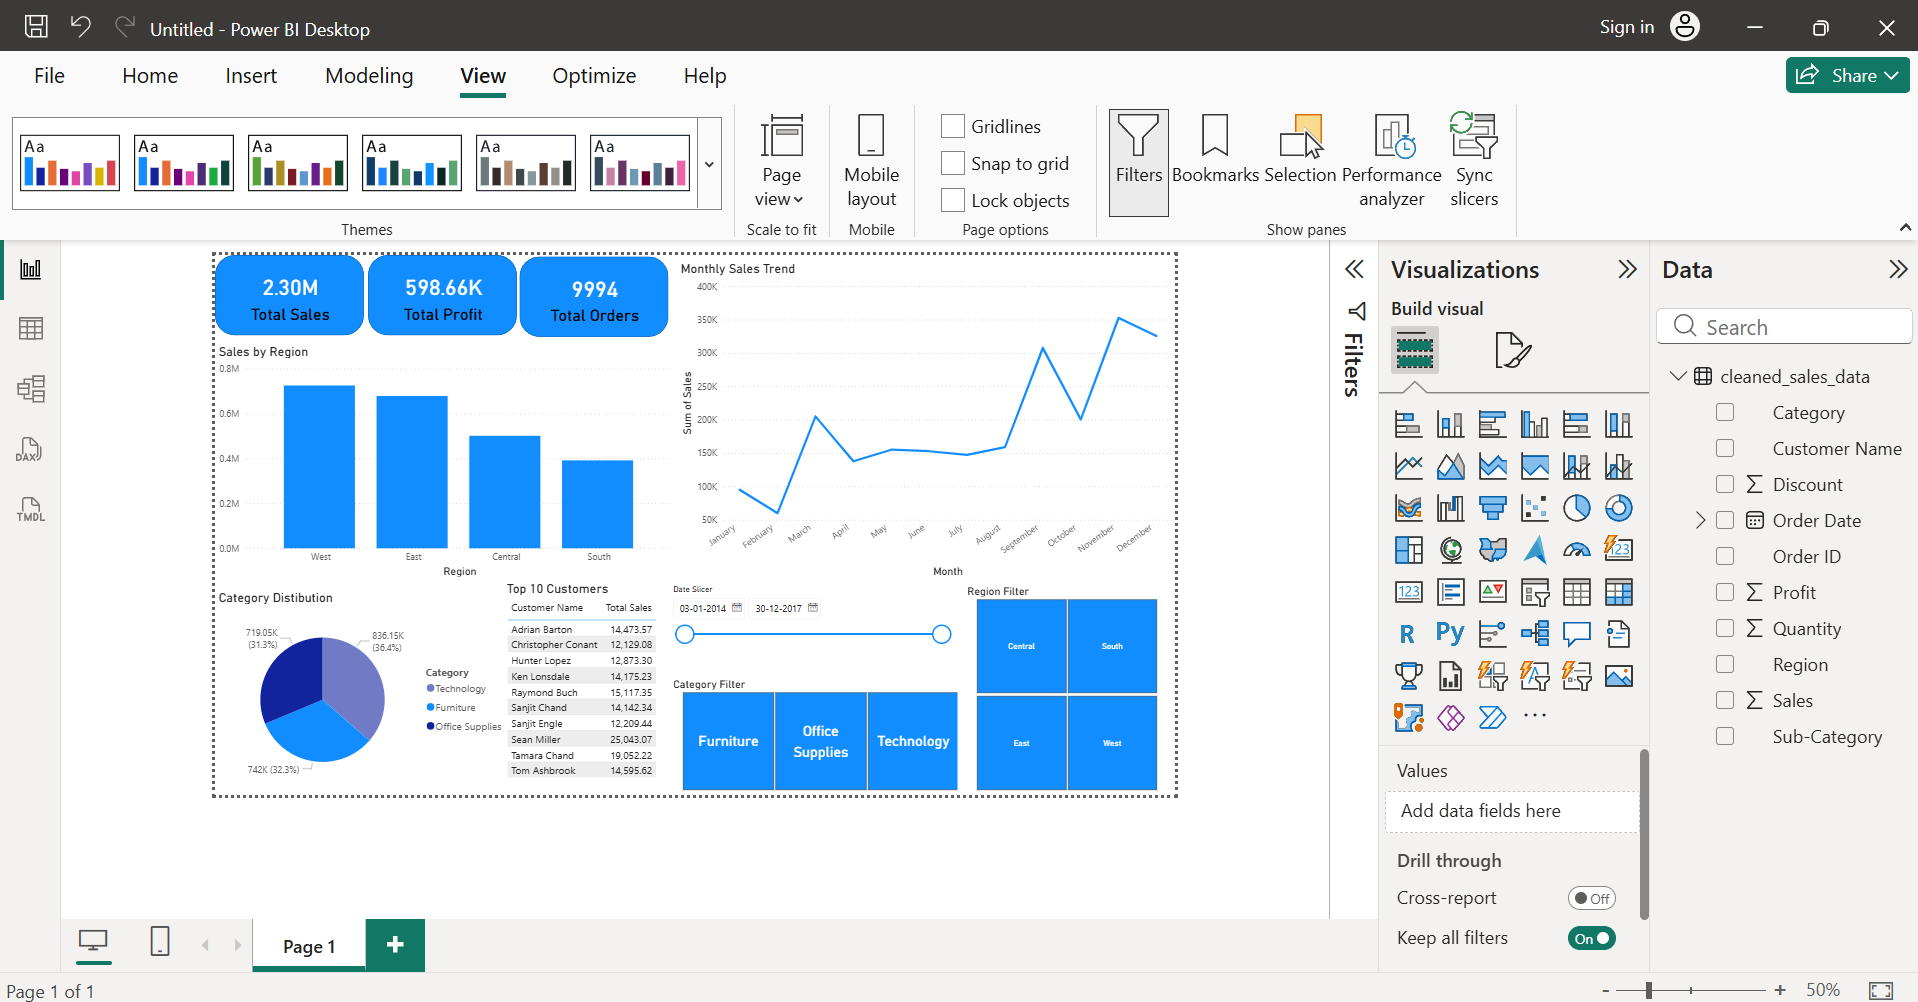

Layout of this report page (visuals, bound fields, positions):
{"tool":"powerbi","page":{"name":"Page 1","canvas":[1280,720],"ordinal":0},"visuals":[{"type":"shape","box":[0,0,198.6,107.1],"z":0},{"type":"card","fields":{"Values":["Sum(cleaned_sales_data.Sales)"]},"box":[8.6,8.6,184.3,91.4],"z":1000},{"type":"shape","box":[204.3,0,198.6,107.1],"z":2000},{"type":"card","fields":{"Values":["Sum(cleaned_sales_data.Profit)"]},"box":[211.4,8.6,184.3,91.4],"z":3000},{"type":"shape","box":[406.2,1.4,198.6,107.1],"z":4000},{"type":"card","fields":{"Values":["CountNonNull(cleaned_sales_data.Order ID)"]},"box":[414.8,10,184.3,91.4],"z":5000},{"type":"columnChart","title":"Sales by Region","fields":{"Category":["cleaned_sales_data.Region"],"Y":["Sum(cleaned_sales_data.Sales)"]},"box":[0,118.6,615.7,315.7],"z":6000},{"type":"lineChart","title":"Monthly Sales Trend","fields":{"Y":["Sum(cleaned_sales_data.Sales)"],"Category":["cleaned_sales_data.Order Date.Variation.Date Hierarchy.Month","cleaned_sales_data.Order Date.Variation.Date Hierarchy.Day"]},"box":[615.7,8.6,664.3,425.7],"z":7000},{"type":"pieChart","title":"Category Distibution","fields":{"Category":["cleaned_sales_data.Category"],"Y":["Sum(cleaned_sales_data.Sales)"]},"box":[0,446,396,274],"z":8000},{"type":"tableEx","title":"Top 10 Customers","fields":{"Values":["cleaned_sales_data.Customer Name","Sum(cleaned_sales_data.Sales)"]},"box":[384,434,214,286],"z":9000},{"type":"slicer","fields":{"Values":["cleaned_sales_data.Order Date"]},"box":[598,434,392,124],"z":10001},{"type":"slicer","fields":{"Values":["cleaned_sales_data.Category"]},"box":[598,558,418,162],"z":10002},{"type":"slicer","fields":{"Values":["cleaned_sales_data.Region"]},"box":[990,434,290,286],"z":10003}]}

Visuals, with their boxes on the page's 1280x720 design canvas (x1, y1, x2, y2). These are canvas units, not pixel positions in the 1918x1002 screenshot, which may show the page scaled, cropped or inside an application window:
shape: region(0, 0, 199, 107)
card - Sum(cleaned_sales_data.Sales): region(9, 9, 193, 100)
shape: region(204, 0, 403, 107)
card - Sum(cleaned_sales_data.Profit): region(211, 9, 396, 100)
shape: region(406, 1, 605, 108)
card - CountNonNull(cleaned_sales_data.Order ID): region(415, 10, 599, 101)
"Sales by Region" columnChart: region(0, 119, 616, 434)
"Monthly Sales Trend" lineChart: region(616, 9, 1280, 434)
"Category Distibution" pieChart: region(0, 446, 396, 720)
"Top 10 Customers" tableEx: region(384, 434, 598, 720)
slicer - cleaned_sales_data.Order Date: region(598, 434, 990, 558)
slicer - cleaned_sales_data.Category: region(598, 558, 1016, 720)
slicer - cleaned_sales_data.Region: region(990, 434, 1280, 720)
